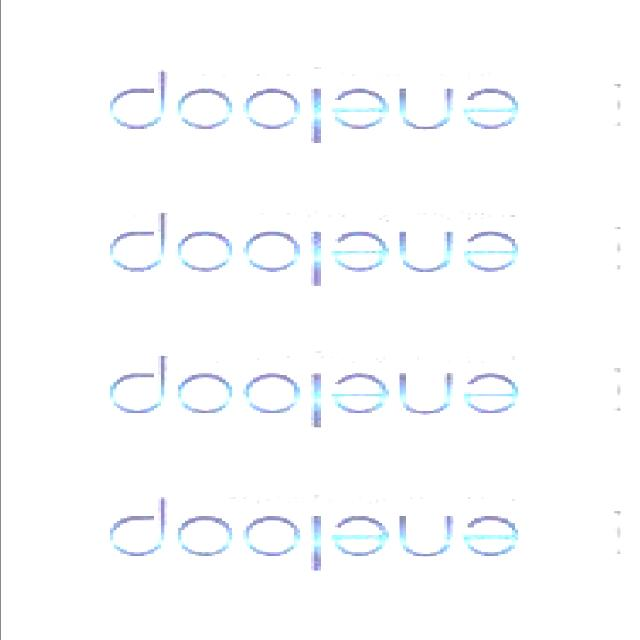AA: (21, 43, 626, 165), (21, 470, 626, 592), (21, 186, 626, 308), (21, 330, 626, 450)
